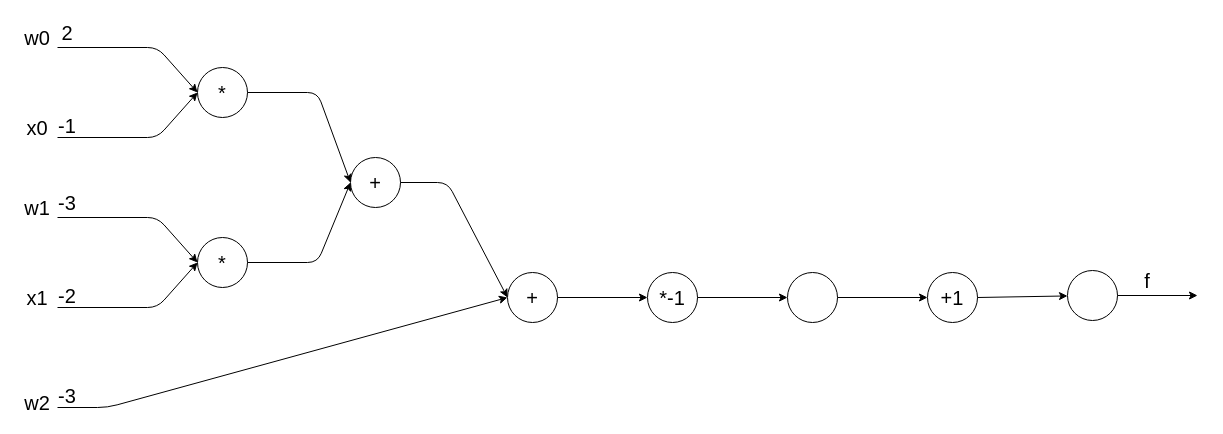
This 1223x434 diagram has some shape labels left out. Each missing label, with the centre of its shape:
"1/x" belongs at point 1092,295.
"exp" belongs at point 812,297.
